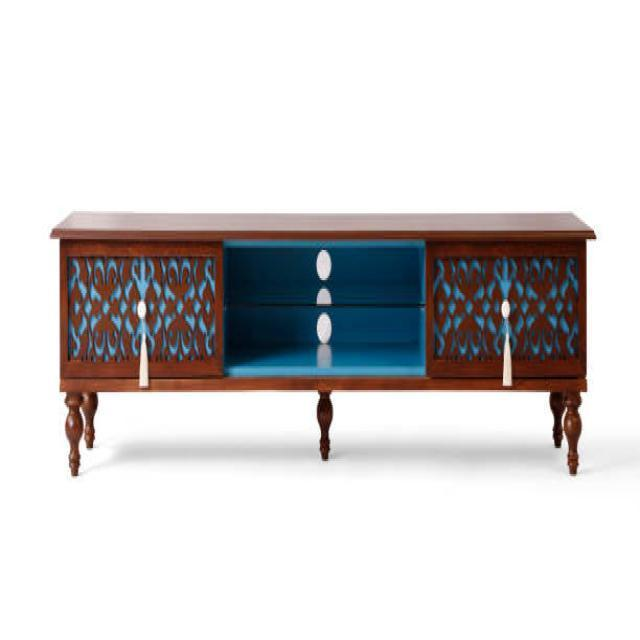table: (49, 209, 596, 476)
